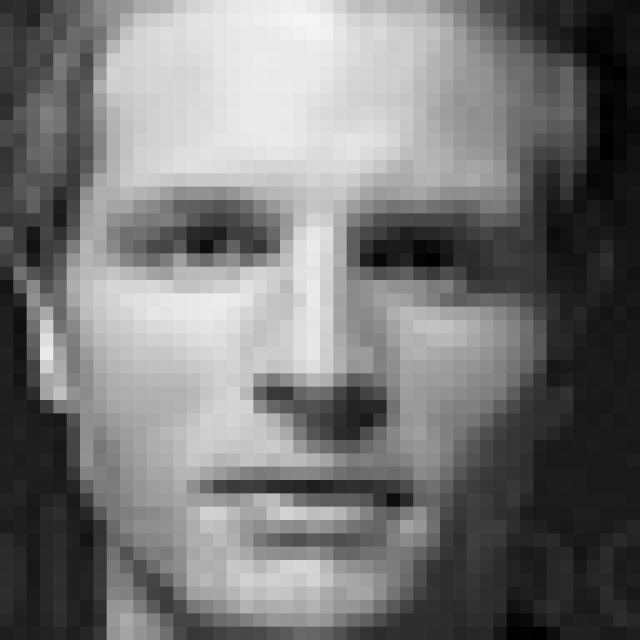neutral: (109, 177, 514, 564)
